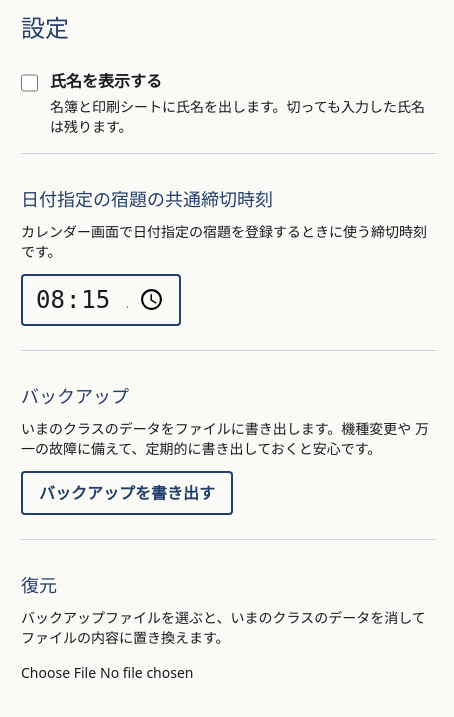
Test: 設定の保存に失敗したとき › トグルを元に戻し、何が起きたかと次にどうするかを伝える
The width and height of the screenshot is (454, 717).
Step 1. Click the checkbox labelled "氏名を表示する" → (29, 83), box [21,73,38,93]
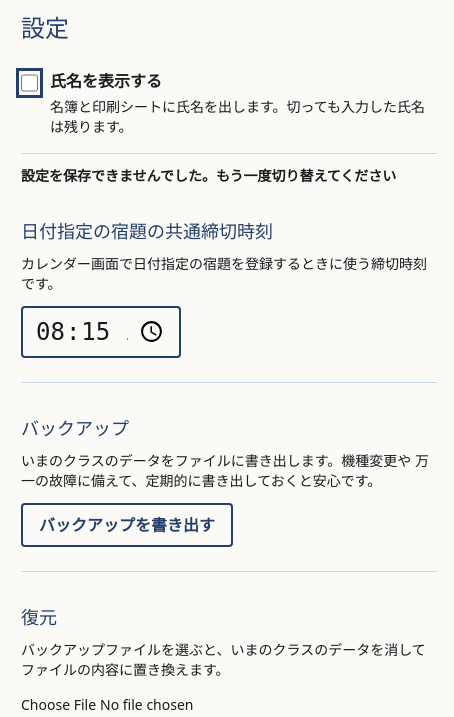
Expected: the text "設定を保存できませんでした。もう一度切り替えてください" is shown, [21,166,437,186]
